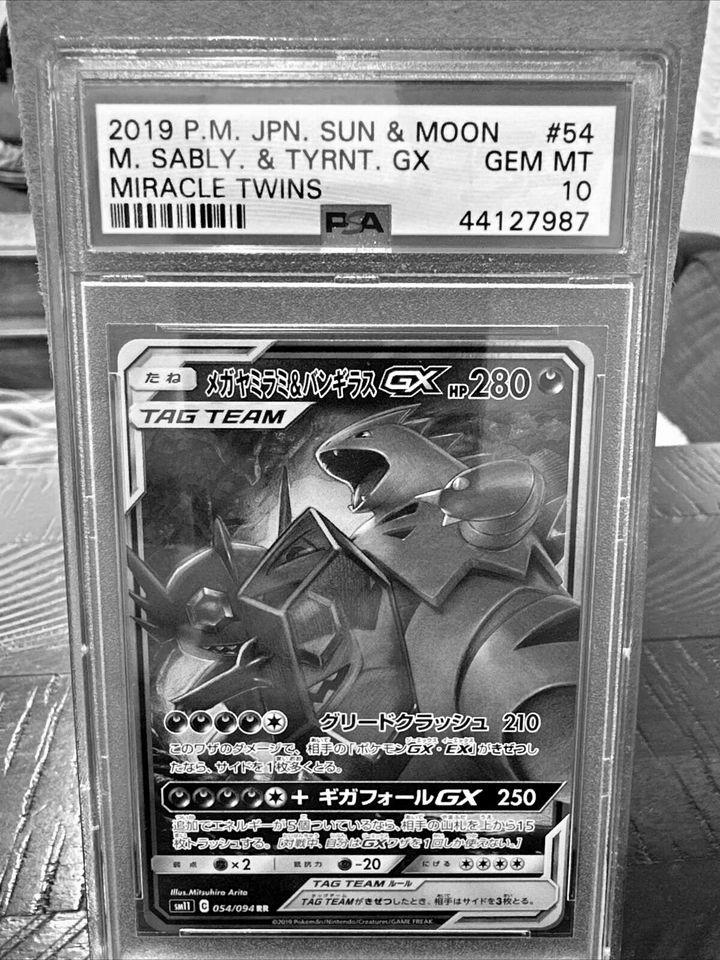card: (117, 338, 595, 933)
